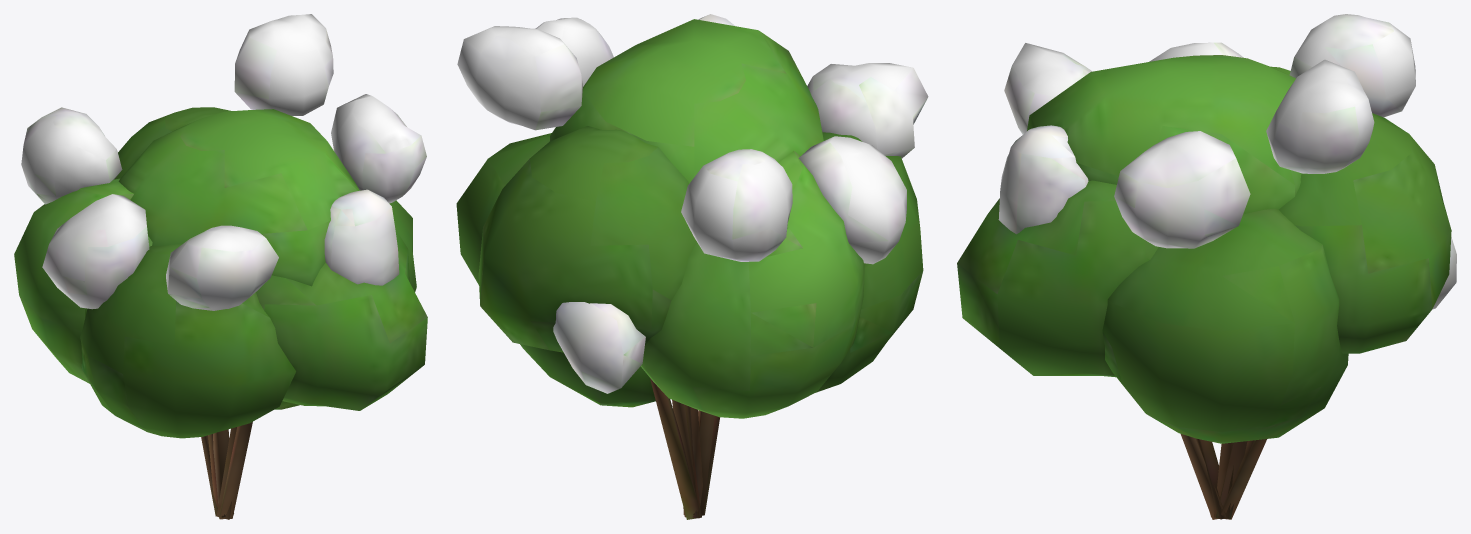
The model's file is crop_cotton.glb.
3 renders of one model, left to right at view 1: azimuth 30°, elevation 25°; view 2: azimuth 150°, elevation 25°; view 3: azimuth 270°, elevation 25°, orthographic. The views are drawn at different scales.
Visible parts, largest first — view 1: crop_cotton, fruit; view 2: crop_cotton, fruit; view 3: crop_cotton, fruit.
Part boxes in pixels (left/top/right/bottom): crop_cotton: left=14, top=107, right=427, bottom=519; fruit: left=21, top=14, right=426, bottom=310; crop_cotton: left=456, top=19, right=923, bottom=519; fruit: left=457, top=14, right=928, bottom=393; crop_cotton: left=957, top=55, right=1451, bottom=519; fruit: left=998, top=14, right=1456, bottom=309.
Size of the model in its own units: 0.2666 by 0.3047 by 0.2732.
Materials: 1 (1 with a texture image).
